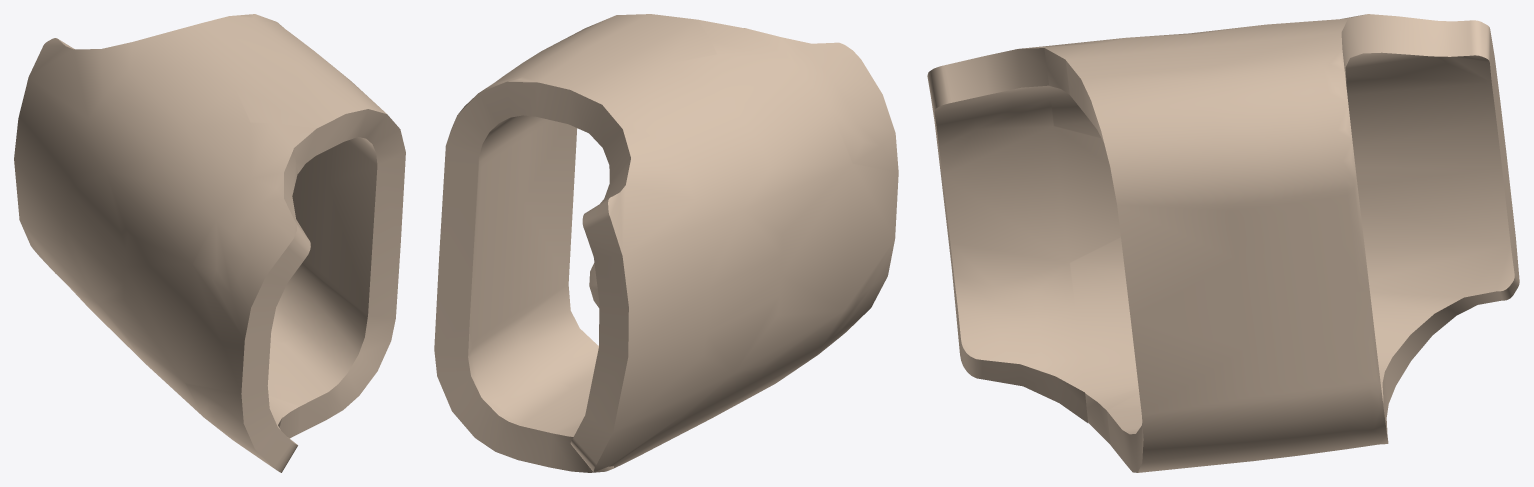
Rendered from r_hand_I_R_0.obj.
The picture shows the model from 3 angles, left to right: view 1: azimuth 30°, elevation 25°; view 2: azimuth 150°, elevation 25°; view 3: azimuth 270°, elevation 25°; orthographic projection. The views are drawn at different scales.
Size of the model in its own units: 17.48 by 23.38 by 30.42.
